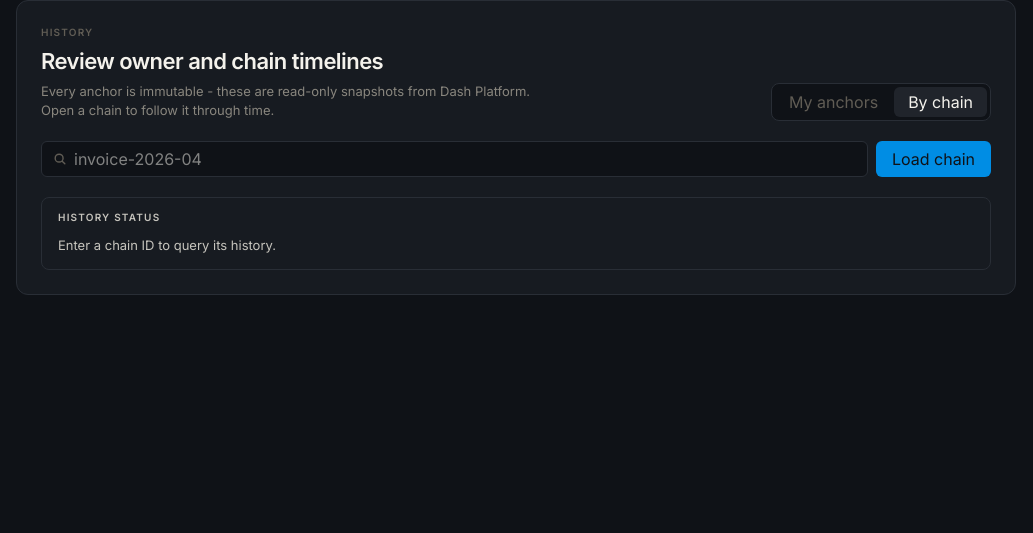
it: HistoryPanel › loads chain history in read-only mode
In the field with placeholder "invoice-2026-04": (454, 158) [41,140,868,176], type "chain-a"
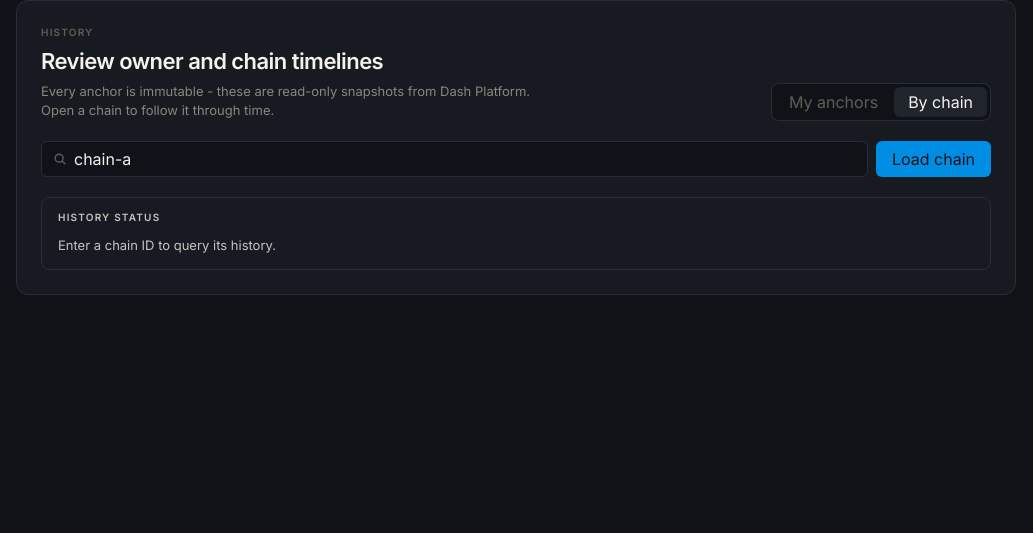
Click the button "Load chain": (934, 158) [876,140,991,176]
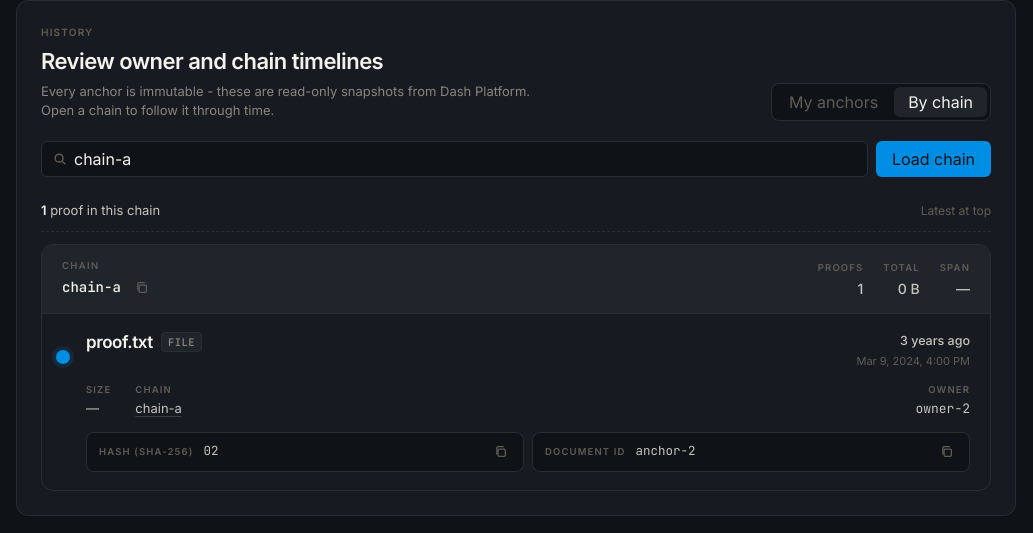
expect the heading "proof.txt" is shown: met, box [86,332,153,353]
